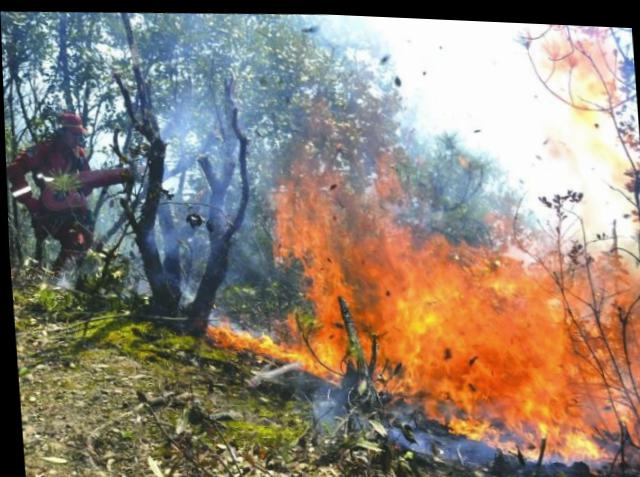fire: (240, 66, 639, 471)
